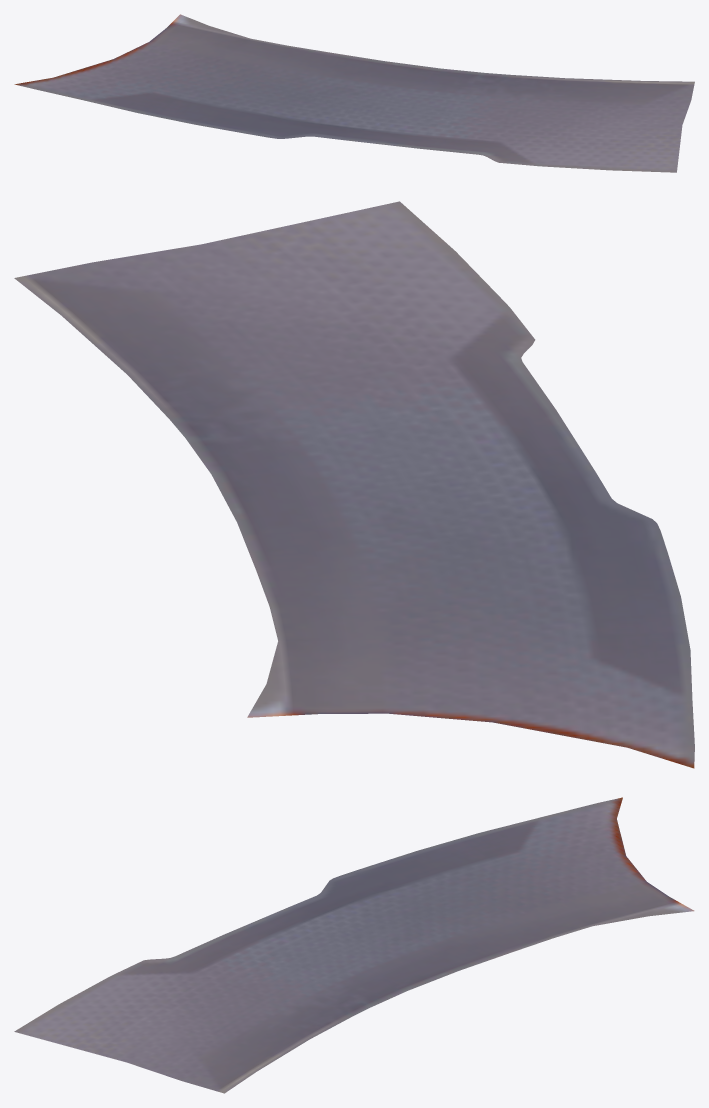
Rendered from pref_fx_blueslowareaeffect_beta03_roada_01_lv0.fbx.
The picture shows the model from 3 angles, top to bottom: view 1: azimuth 30°, elevation 25°; view 2: azimuth 150°, elevation 25°; view 3: azimuth 270°, elevation 25°; orthographic projection. The views are drawn at different scales.
Visible parts, largest first — view 1: color (1); view 2: color (1); view 3: color (1).
Boxes of the visible parts, <box> form: color (1): <box>14,14,694,172</box>; color (1): <box>14,201,694,768</box>; color (1): <box>14,797,694,1093</box>.
Size of the model in its own units: 20.17 by 0.0303 by 19.56.
